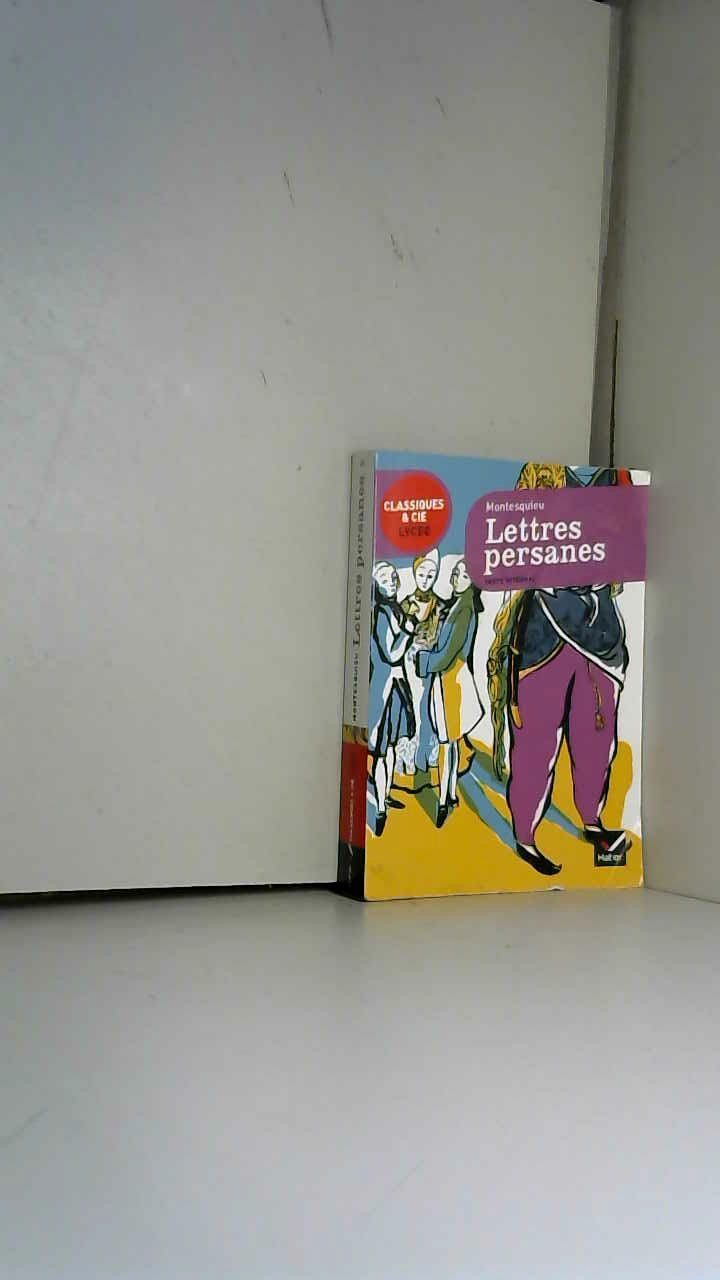book: (321, 427, 672, 924)
